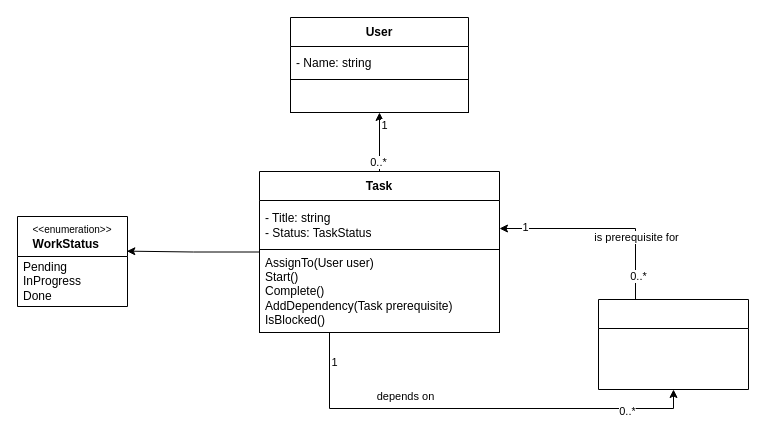
The diagram is 766 pixels wide and 435 high, and some of its shapes have lost their labels. The shapes that lost their labels are listed below. From the top down, each one's centre as x and y in pixels, then its label:
point (379, 95): HasTaskInProgress(): bool
point (673, 344): TaskDependency
